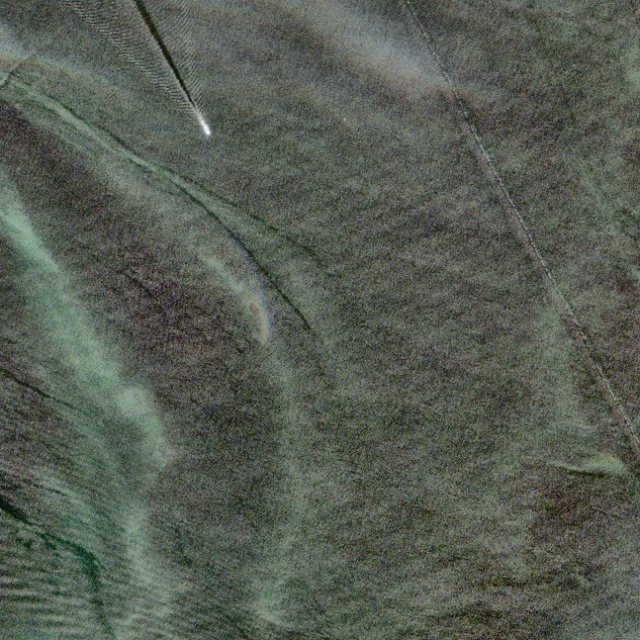wake: (121, 8, 246, 158)
